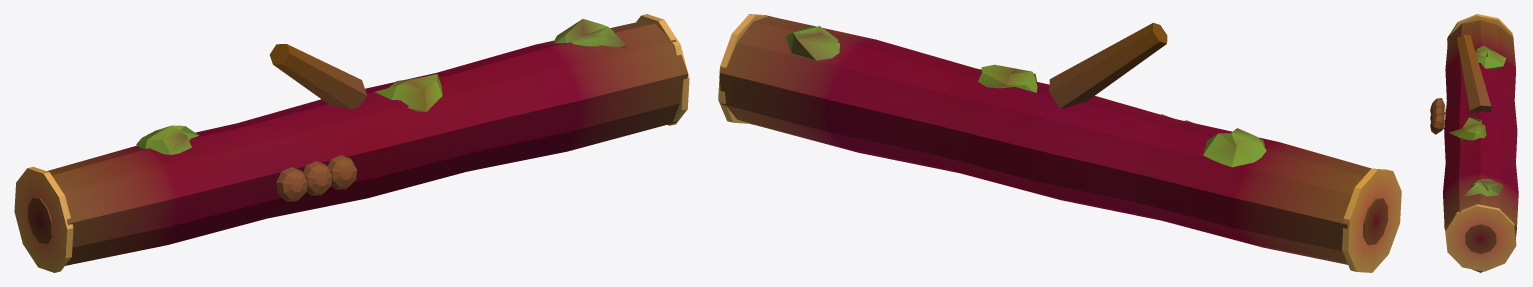
Rendered from Log_Fallen_01.glb.
3 views of the same model, side by side, from view 1: azimuth 30°, elevation 25°; view 2: azimuth 150°, elevation 25°; view 3: azimuth 270°, elevation 25° (orthographic). The views are drawn at different scales.
Visible parts, largest first — view 1: Log_Fallen_01; view 2: Log_Fallen_01; view 3: Log_Fallen_01.
Part boxes in pixels (x1,y1,x2,y2): Log_Fallen_01: (14,14,689,272); Log_Fallen_01: (718,14,1401,272); Log_Fallen_01: (1430,14,1518,272).
Bounding box in the file's own units: 4.04 × 1.15 × 0.7768.
